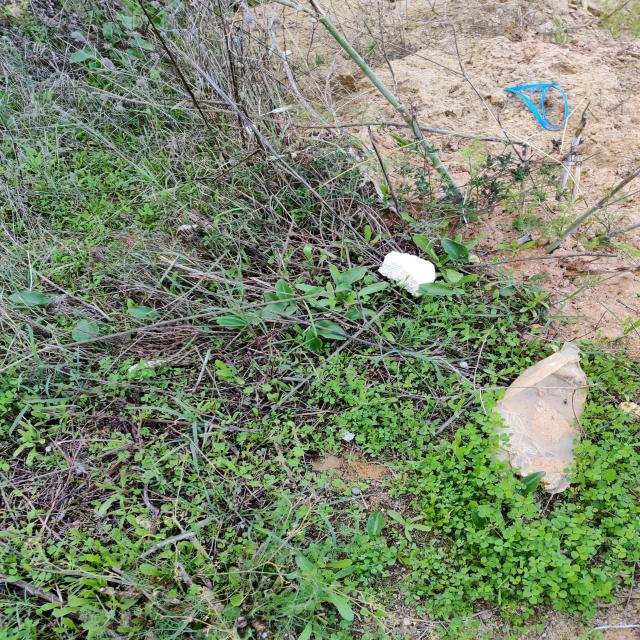litter: (79, 55, 94, 79), (80, 13, 91, 21), (60, 40, 70, 48), (61, 40, 63, 45)
